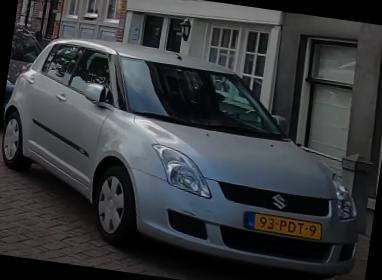license-plate: (245, 211, 323, 242)
